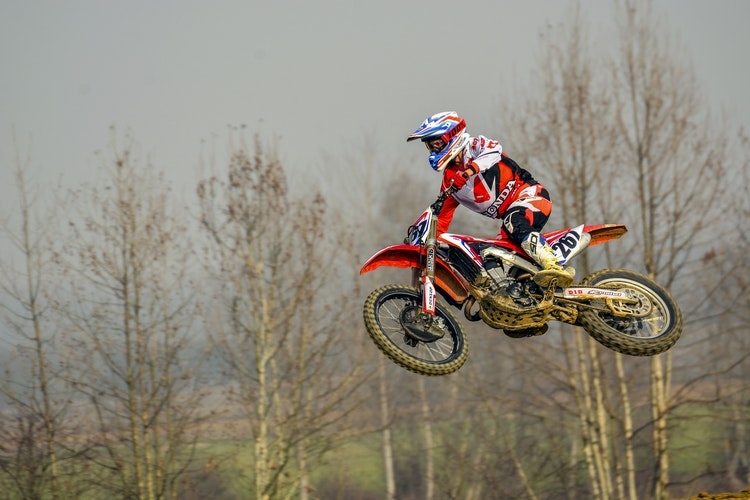helmet: (411, 109, 469, 174)
